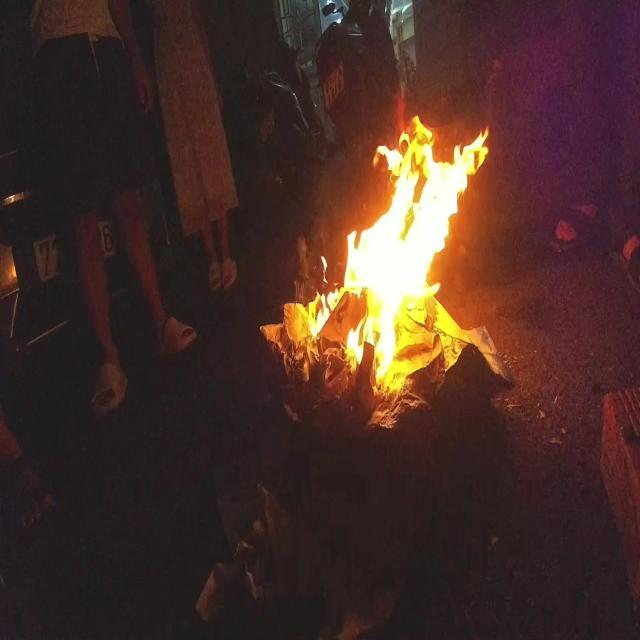Fire: (292, 118, 488, 404)
